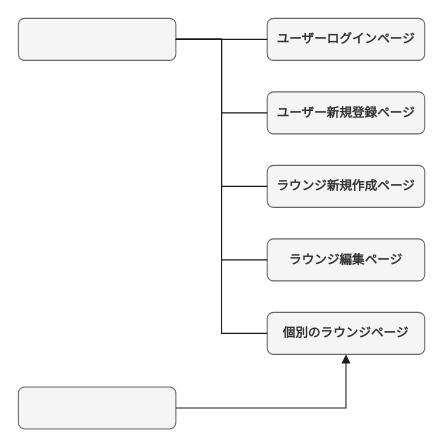
The diagram is 443 pixels wide and 447 high, and some of its shapes have lost their labels. The shapes that lost their labels are listed below. From the top down, each one's centre as x and y in pixels, then its label:
At (x=96, y=38): "一覧ページ".
At (x=96, y=407): "あいことば 確認ページ".
